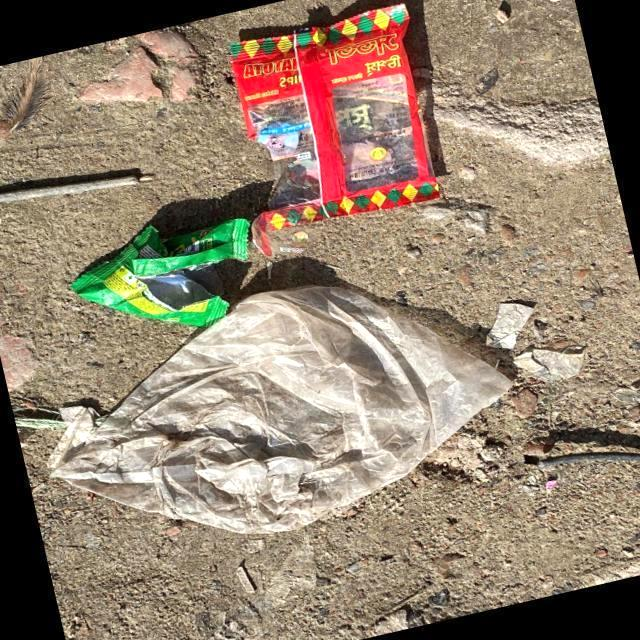packet: (231, 16, 442, 214), (113, 219, 258, 318)
